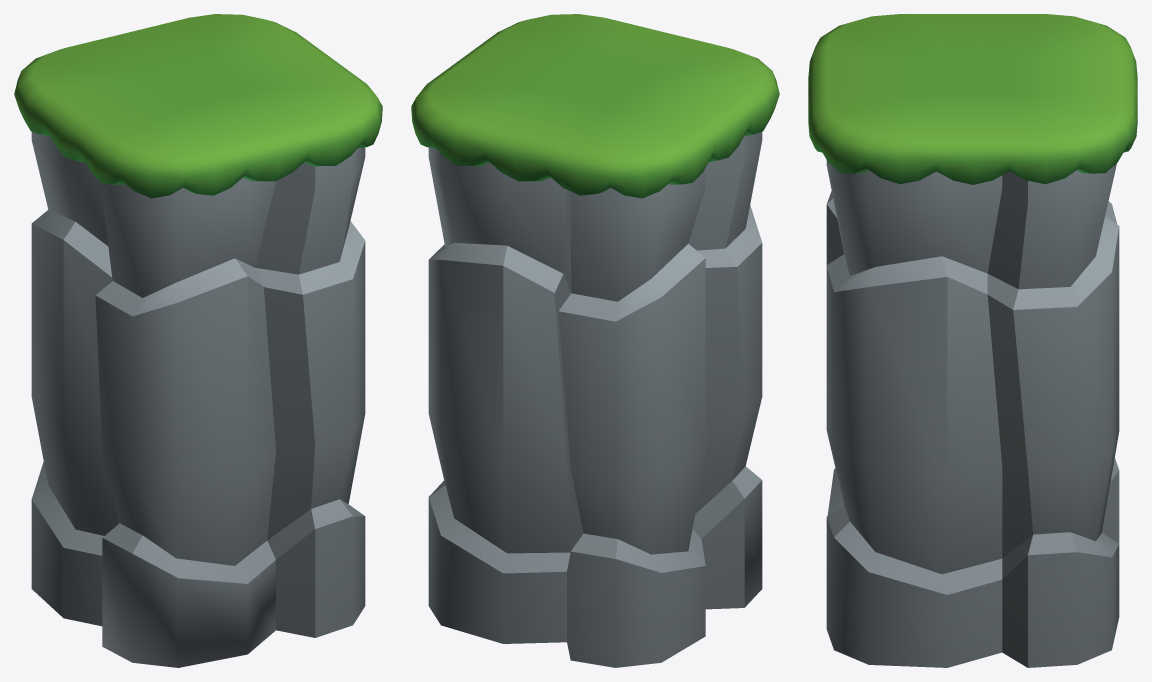
File: Hill_4x4x8_Color1.gltf
The picture shows the model from 3 angles, left to right: view 1: azimuth 30°, elevation 25°; view 2: azimuth 150°, elevation 25°; view 3: azimuth 270°, elevation 25°; orthographic projection. The views are drawn at different scales.
Visible parts, largest first — view 1: Hill_4x4x8_Color1; view 2: Hill_4x4x8_Color1; view 3: Hill_4x4x8_Color1.
Boxes of the visible parts, x1=… form: Hill_4x4x8_Color1: x1=14, y1=14, x2=382, y2=667; Hill_4x4x8_Color1: x1=411, y1=14, x2=779, y2=667; Hill_4x4x8_Color1: x1=808, y1=14, x2=1137, y2=667.
Size of the model in its own units: 4.5 by 8 by 4.5.
Materials: 1 (1 with a texture image).
